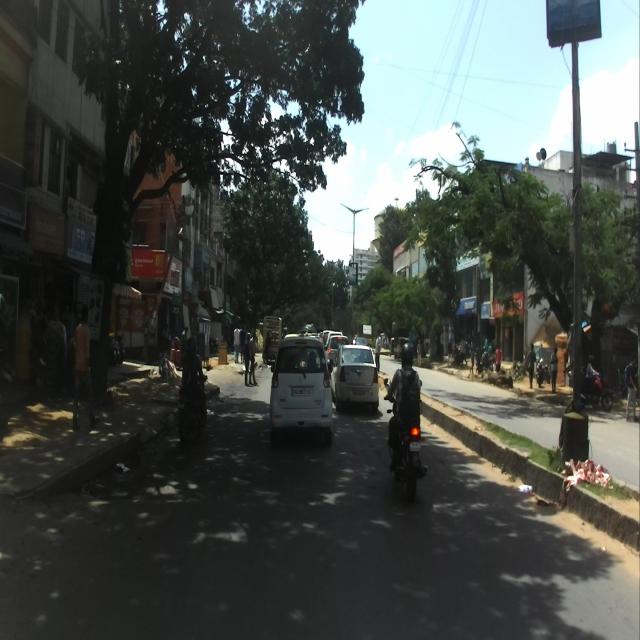Car_Maruti-Suzuki: (267, 336, 334, 448)
motorcycle_bajaj: (384, 376, 428, 502)
